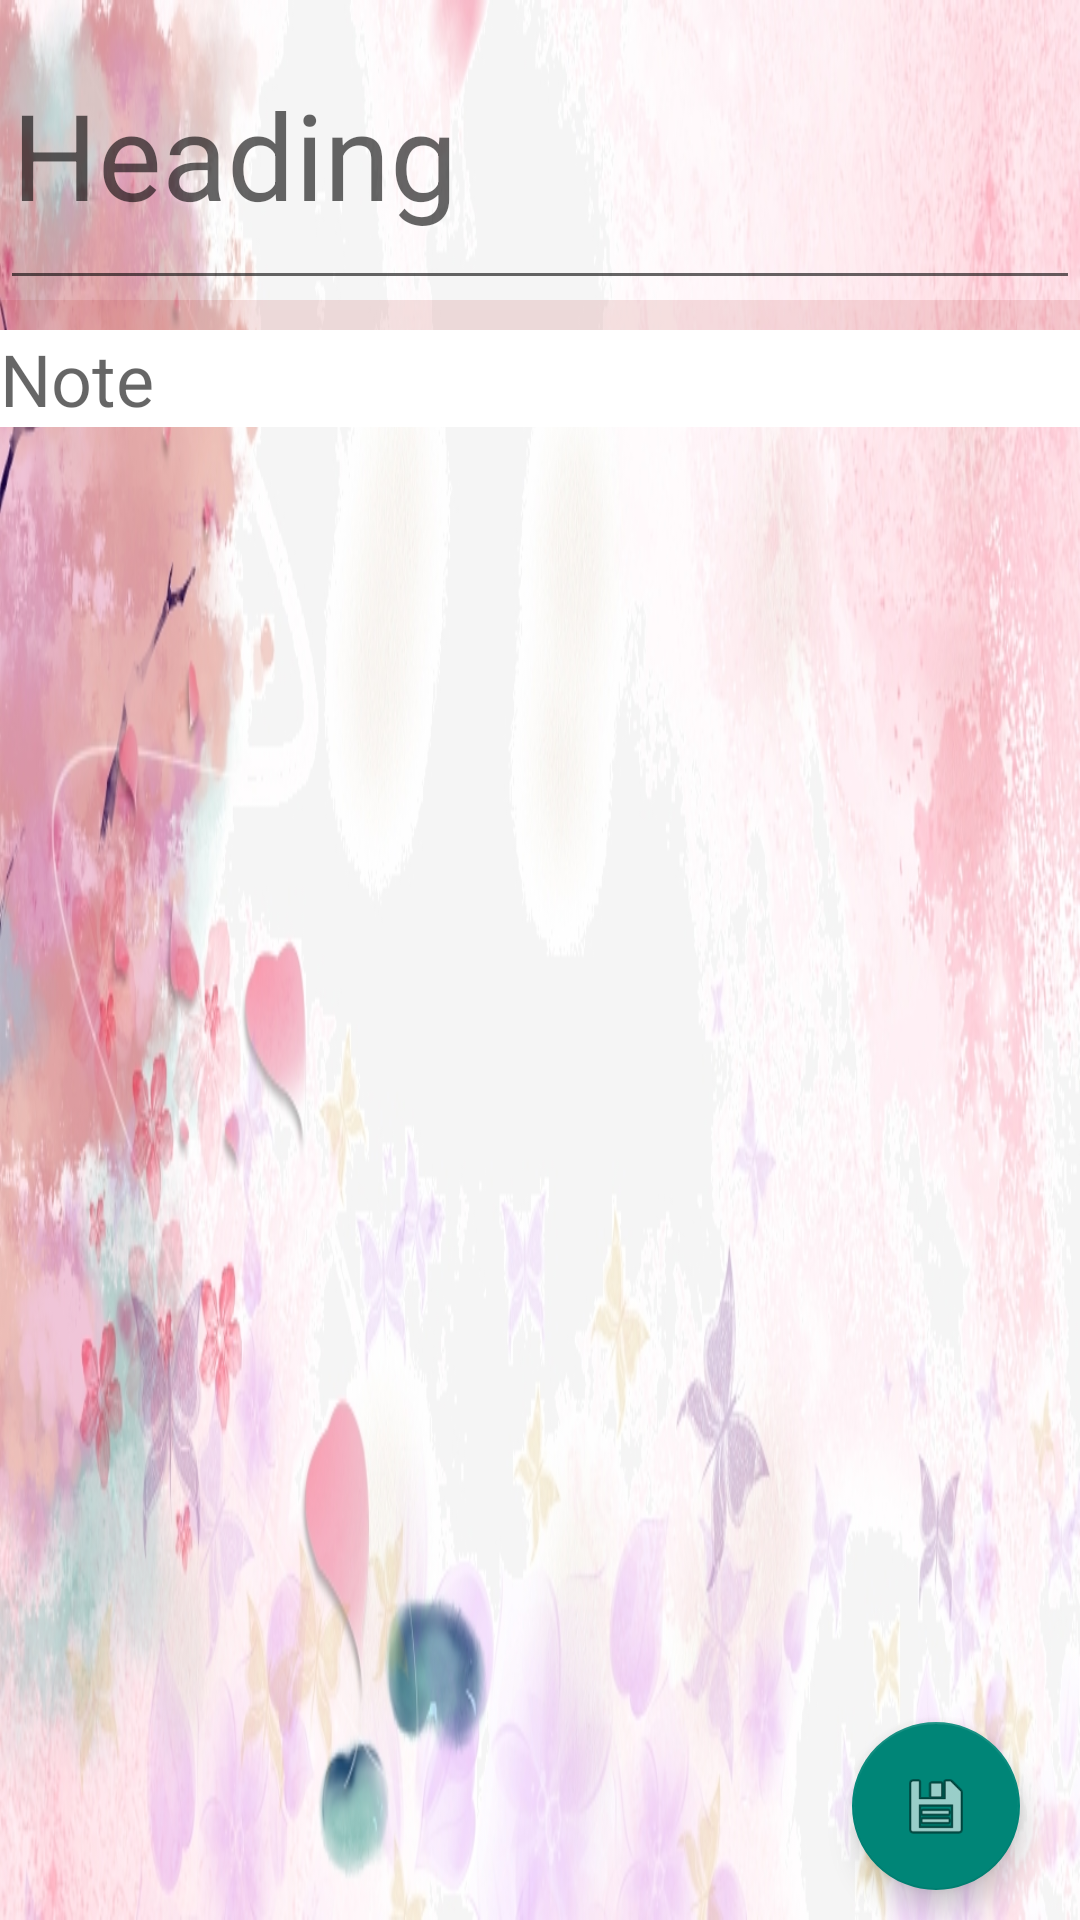

Screen size 1080w x 1920h. Icon name, then its center in pixels as [x,y]:
save: [936,1806]
